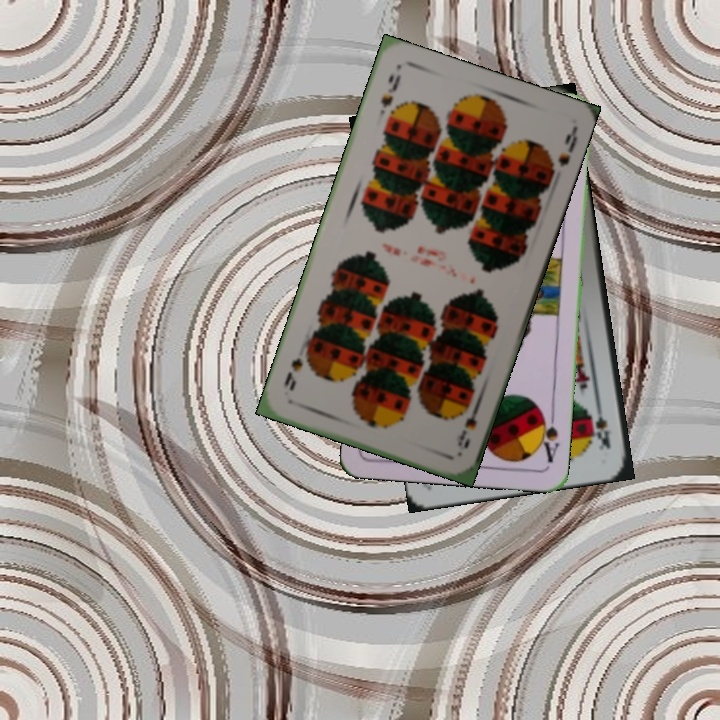S9: (453, 398, 483, 452), (376, 70, 404, 111)
SA: (534, 406, 562, 466)
SK: (591, 397, 613, 452)
